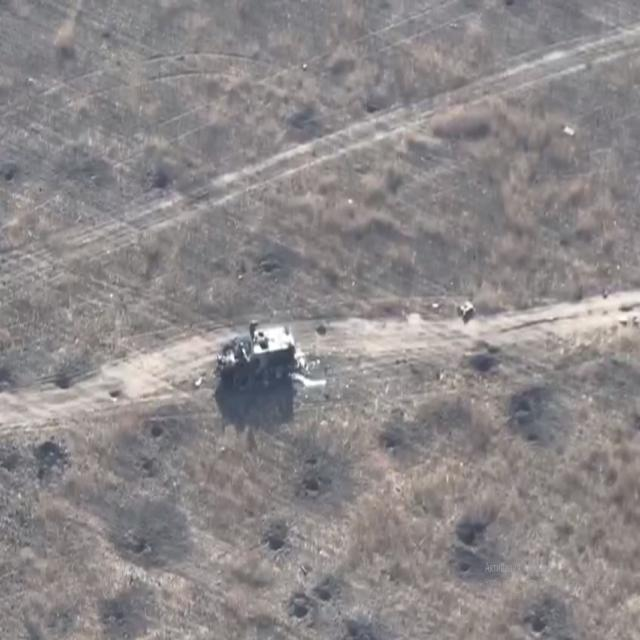APC: (215, 322, 299, 398)
